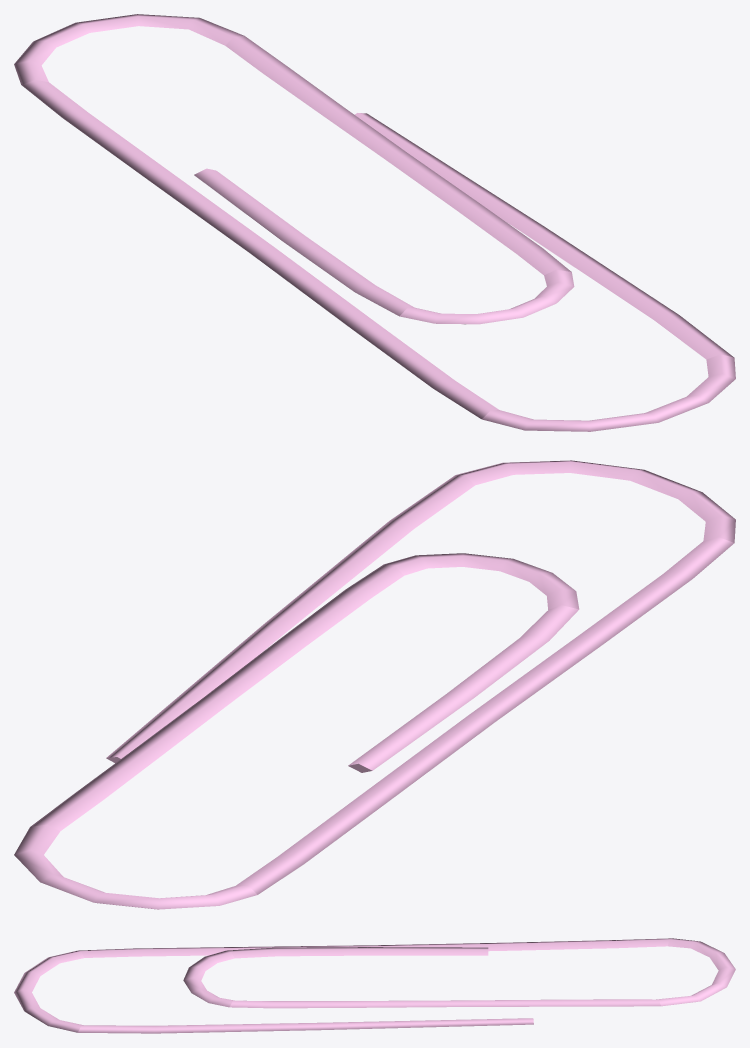
The model's file is 대형클립_풍경_핑크.fbx.
3 views of the same model, one above another, from view 1: azimuth 30°, elevation 25°; view 2: azimuth 150°, elevation 25°; view 3: azimuth 270°, elevation 25° (orthographic). The views are drawn at different scales.
Parts seen in each view (by area): view 1: clip_01; view 2: clip_01; view 3: clip_01.
Boxes of the visible parts, x1=… form: clip_01: x1=14, y1=14, x2=735, y2=431; clip_01: x1=14, y1=460, x2=735, y2=909; clip_01: x1=14, y1=938, x2=735, y2=1033.
Bounding box in the file's own units: 252 × 19.95 × 875.
